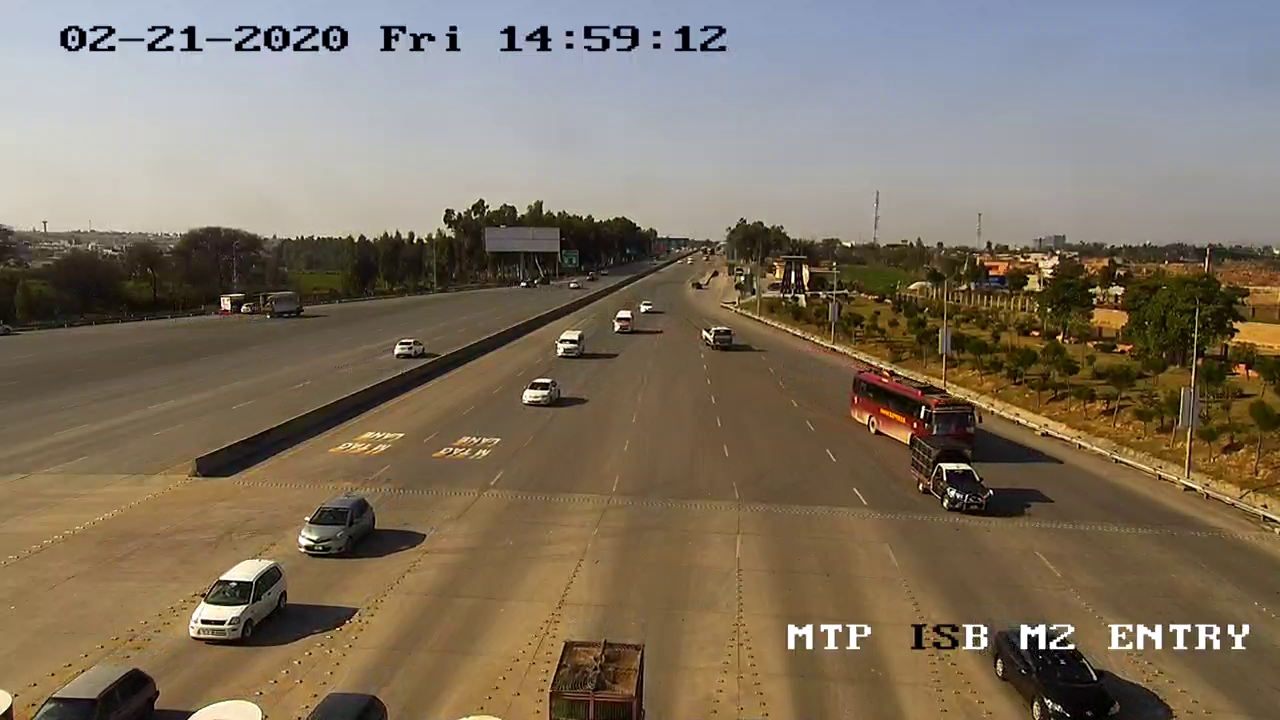f1: (182, 558, 294, 647), (280, 492, 392, 560), (506, 368, 569, 415)
f2: (899, 432, 995, 523)
f4: (842, 355, 980, 445)
